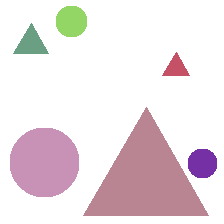circle: (10, 128, 78, 196), (56, 6, 86, 36), (188, 149, 216, 177)
triangle: (83, 107, 208, 215), (13, 23, 48, 53), (162, 52, 189, 75)
